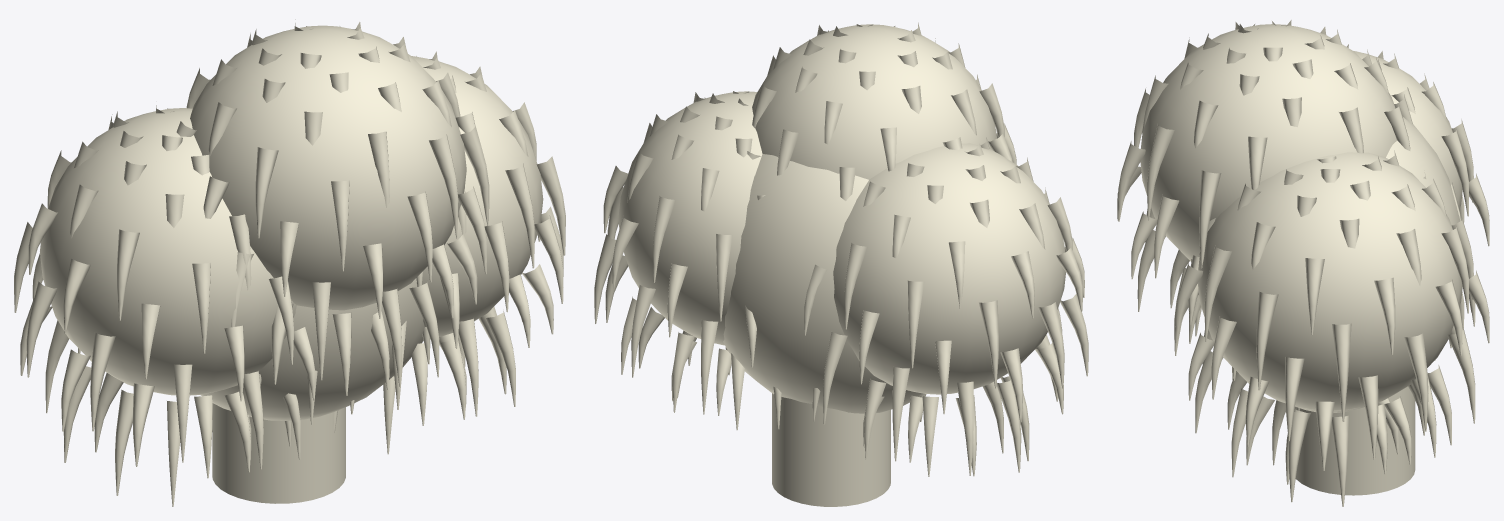
Rendered from mushroom-farm-and-grow-rooms-lions-mane-mushroom-clust-a6feef6f__30829.glb.
3 views of the same model, side by side, from view 1: azimuth 30°, elevation 25°; view 2: azimuth 150°, elevation 25°; view 3: azimuth 270°, elevation 25° (orthographic). The views are drawn at different scales.
Parts seen in each view (by area): view 1: lions-mane-mushroom-cluster; view 2: lions-mane-mushroom-cluster; view 3: lions-mane-mushroom-cluster.
Boxes of the visible parts, x1=… form: lions-mane-mushroom-cluster: x1=14, y1=19, x2=565, y2=506; lions-mane-mushroom-cluster: x1=594, y1=22, x2=1088, y2=506; lions-mane-mushroom-cluster: x1=1117, y1=20, x2=1489, y2=506.
Size of the model in its own units: 0.2379 by 0.2102 by 0.1622.
